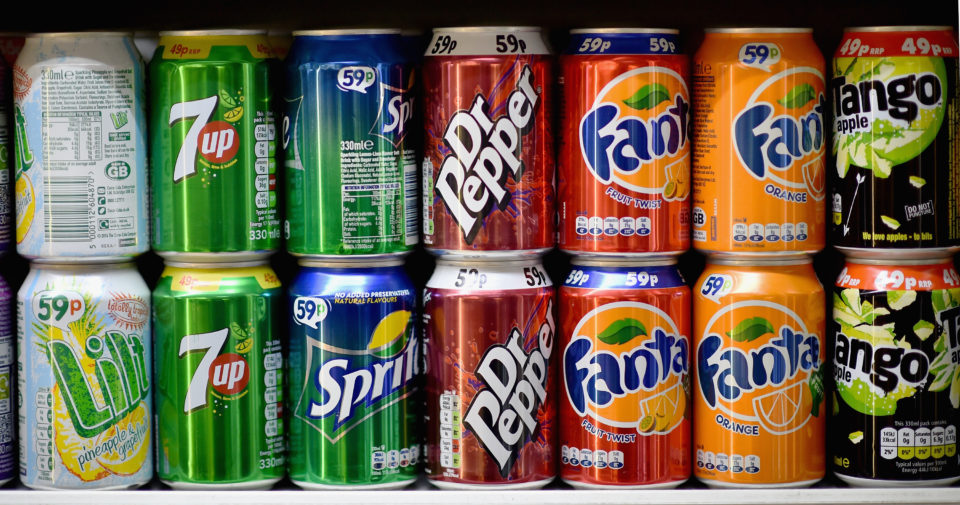fanta: (691, 269, 833, 488), (696, 31, 832, 258), (566, 27, 689, 256), (559, 271, 689, 484)
